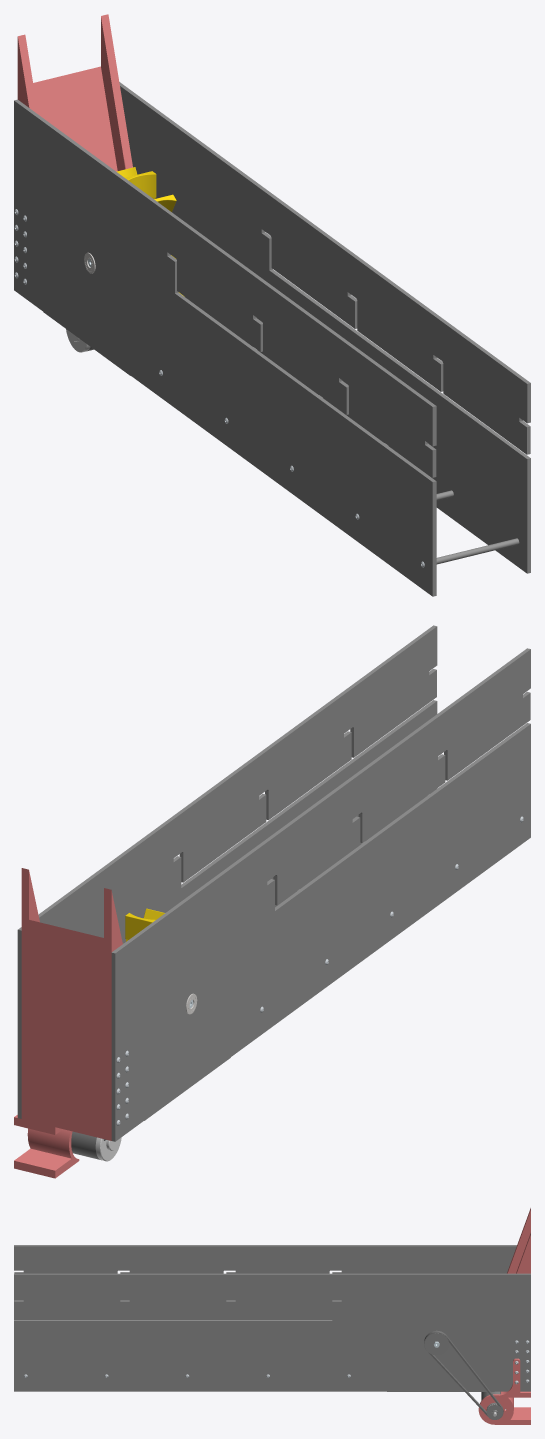
The model's file is hydro.glb.
The picture shows the model from 3 angles, top to bottom: view 1: azimuth 30°, elevation 25°; view 2: azimuth 150°, elevation 25°; view 3: azimuth 270°, elevation 25°; orthographic projection. The views are drawn at different scales.
Visible parts, largest first — view 1: Part 6, Rack Plate, Part 4; view 2: Part 6, Rack Plate, Ramp, Part 4, Part 8, CIM Motor; view 3: Rack Plate, Part 6, Part 8, Part 4, 120T 5M 9mm Wide Belt, 36T HTD Pulley 9.53mm Wide.
Part boxes in pixels (x1,y1,x2,y2): Part 6: (14, 99, 436, 596); Rack Plate: (119, 82, 530, 573); Part 4: (17, 14, 131, 159); Part 6: (111, 648, 530, 1141); Rack Plate: (17, 625, 437, 1118); Ramp: (21, 993, 111, 1140); Part 4: (21, 868, 122, 1015); Part 8: (14, 1115, 79, 1178); CIM Motor: (71, 1131, 121, 1161); Rack Plate: (14, 1273, 530, 1391); Part 6: (14, 1245, 516, 1319); Part 8: (478, 1358, 530, 1424); Part 4: (507, 1208, 530, 1273); 120T 5M 9mm Wide Belt: (424, 1331, 503, 1419); 36T HTD Pulley 9.53mm Wide: (424, 1330, 448, 1355).
Bounding box in the file's own units: 0.2033 × 0.4895 × 1.22.
